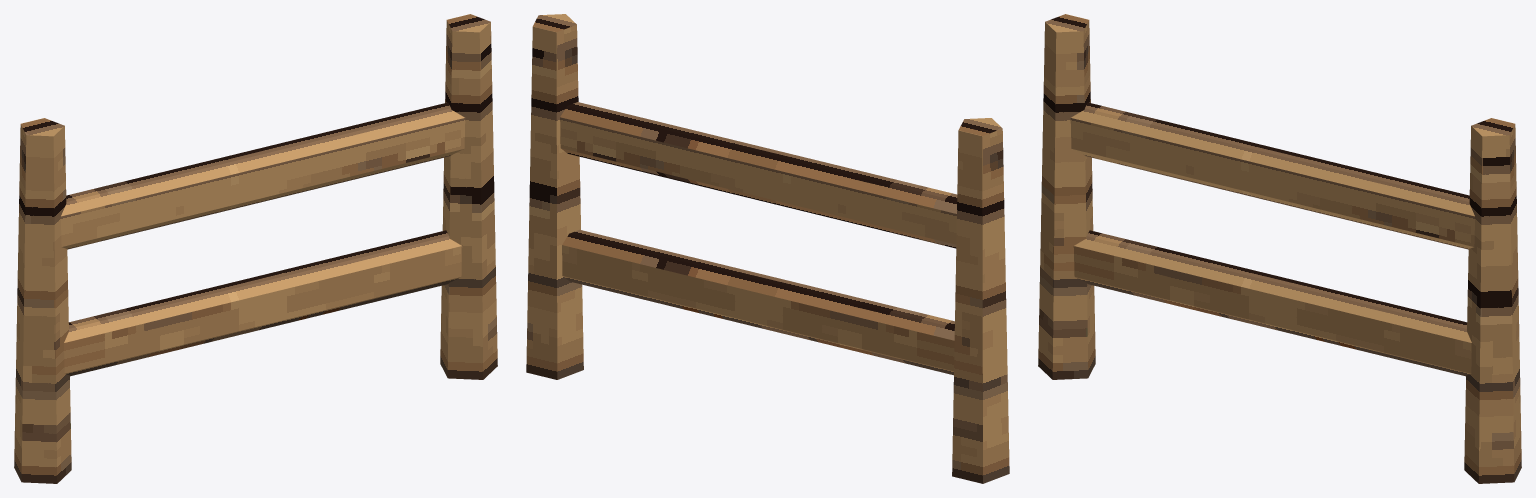
File: enfeite_cerca.fbx
The picture shows the model from 3 angles, left to right: view 1: azimuth 30°, elevation 25°; view 2: azimuth 150°, elevation 25°; view 3: azimuth 330°, elevation 25°; orthographic projection.
Parts seen in each view (by area): view 1: deserto_enfeite_cerca; view 2: deserto_enfeite_cerca; view 3: deserto_enfeite_cerca.
Part boxes in pixels (box(x1,y1,x2,y2)): deserto_enfeite_cerca: box(14, 14, 497, 483); deserto_enfeite_cerca: box(526, 14, 1009, 483); deserto_enfeite_cerca: box(1038, 14, 1521, 483).
Size of the model in its own units: 93.89 by 65 by 9.41.
1 material, 1 textured.
